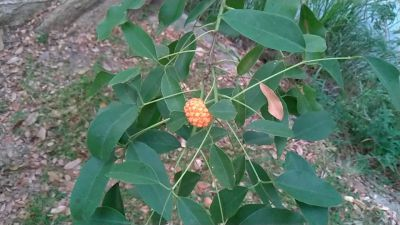eggs: (186, 95, 212, 131)
